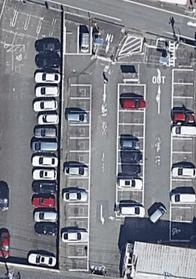parkingspot: (28, 38, 63, 271), (57, 82, 93, 274), (167, 68, 196, 243), (115, 83, 147, 219), (0, 0, 59, 38)
